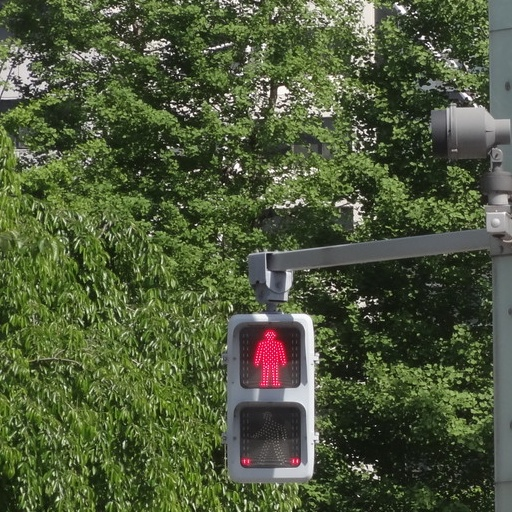Pedestrian_Signal_Red: (227, 305, 314, 481)
